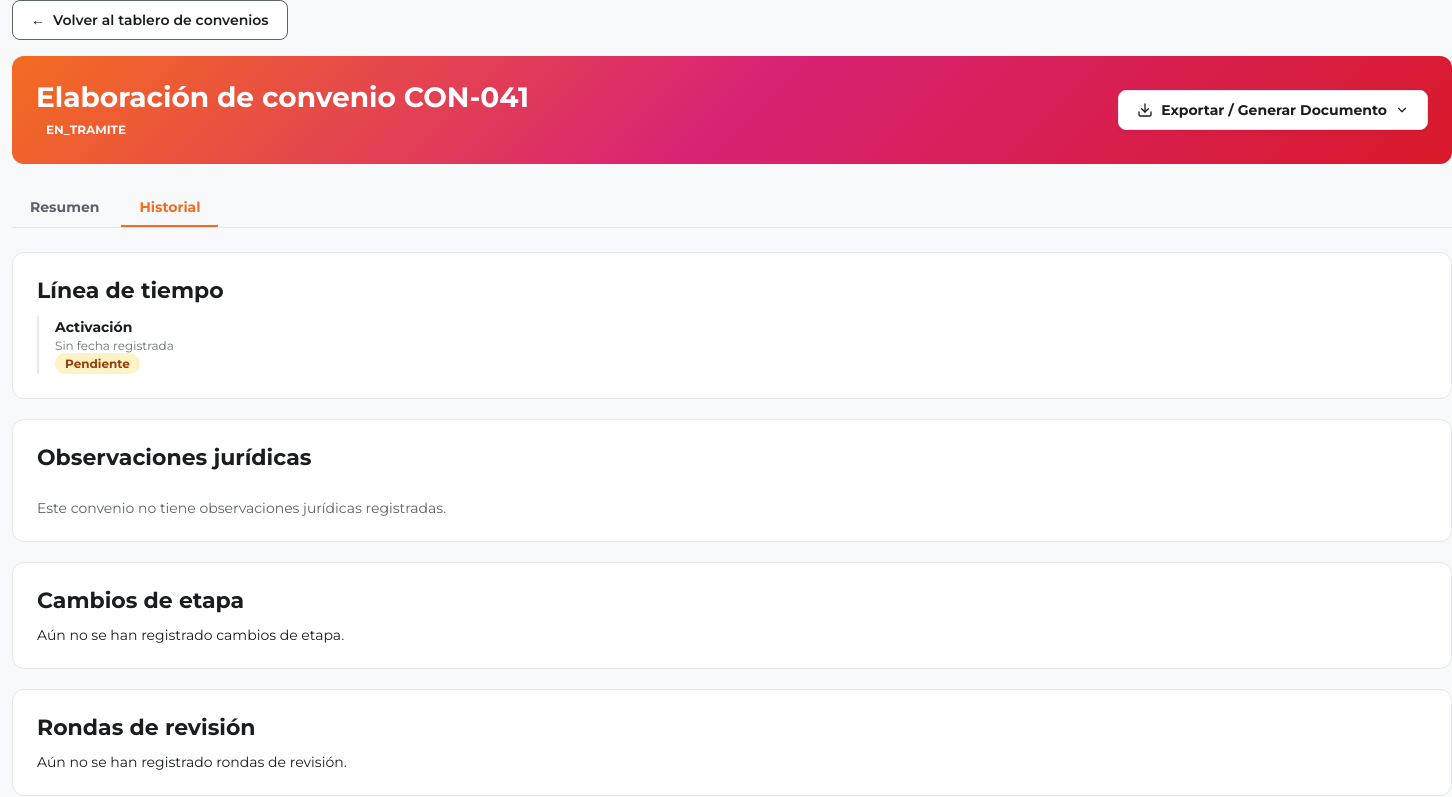
Test: pestañas del detalle del convenio › muestra el historial manual sin consultar solicitudes y vuelve al tablero
Expected: the element "Observaciones jurídicas" is shown, [12,419,1451,542]
Click the tab "Resumen" at (65, 208), box [12,188,117,228]
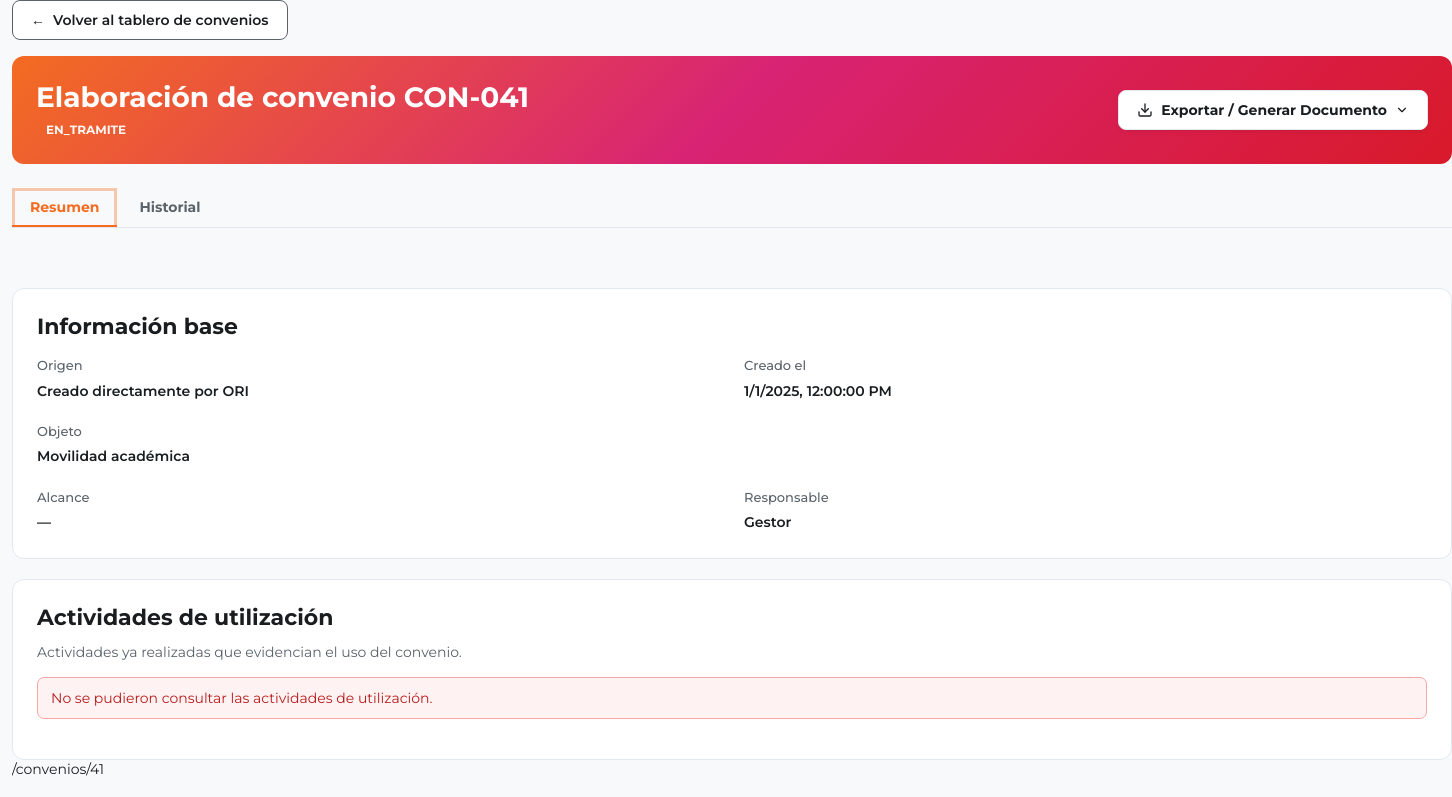
Expected: the text "Creado directamente por ORI" is shown, [37,382,249,400]
